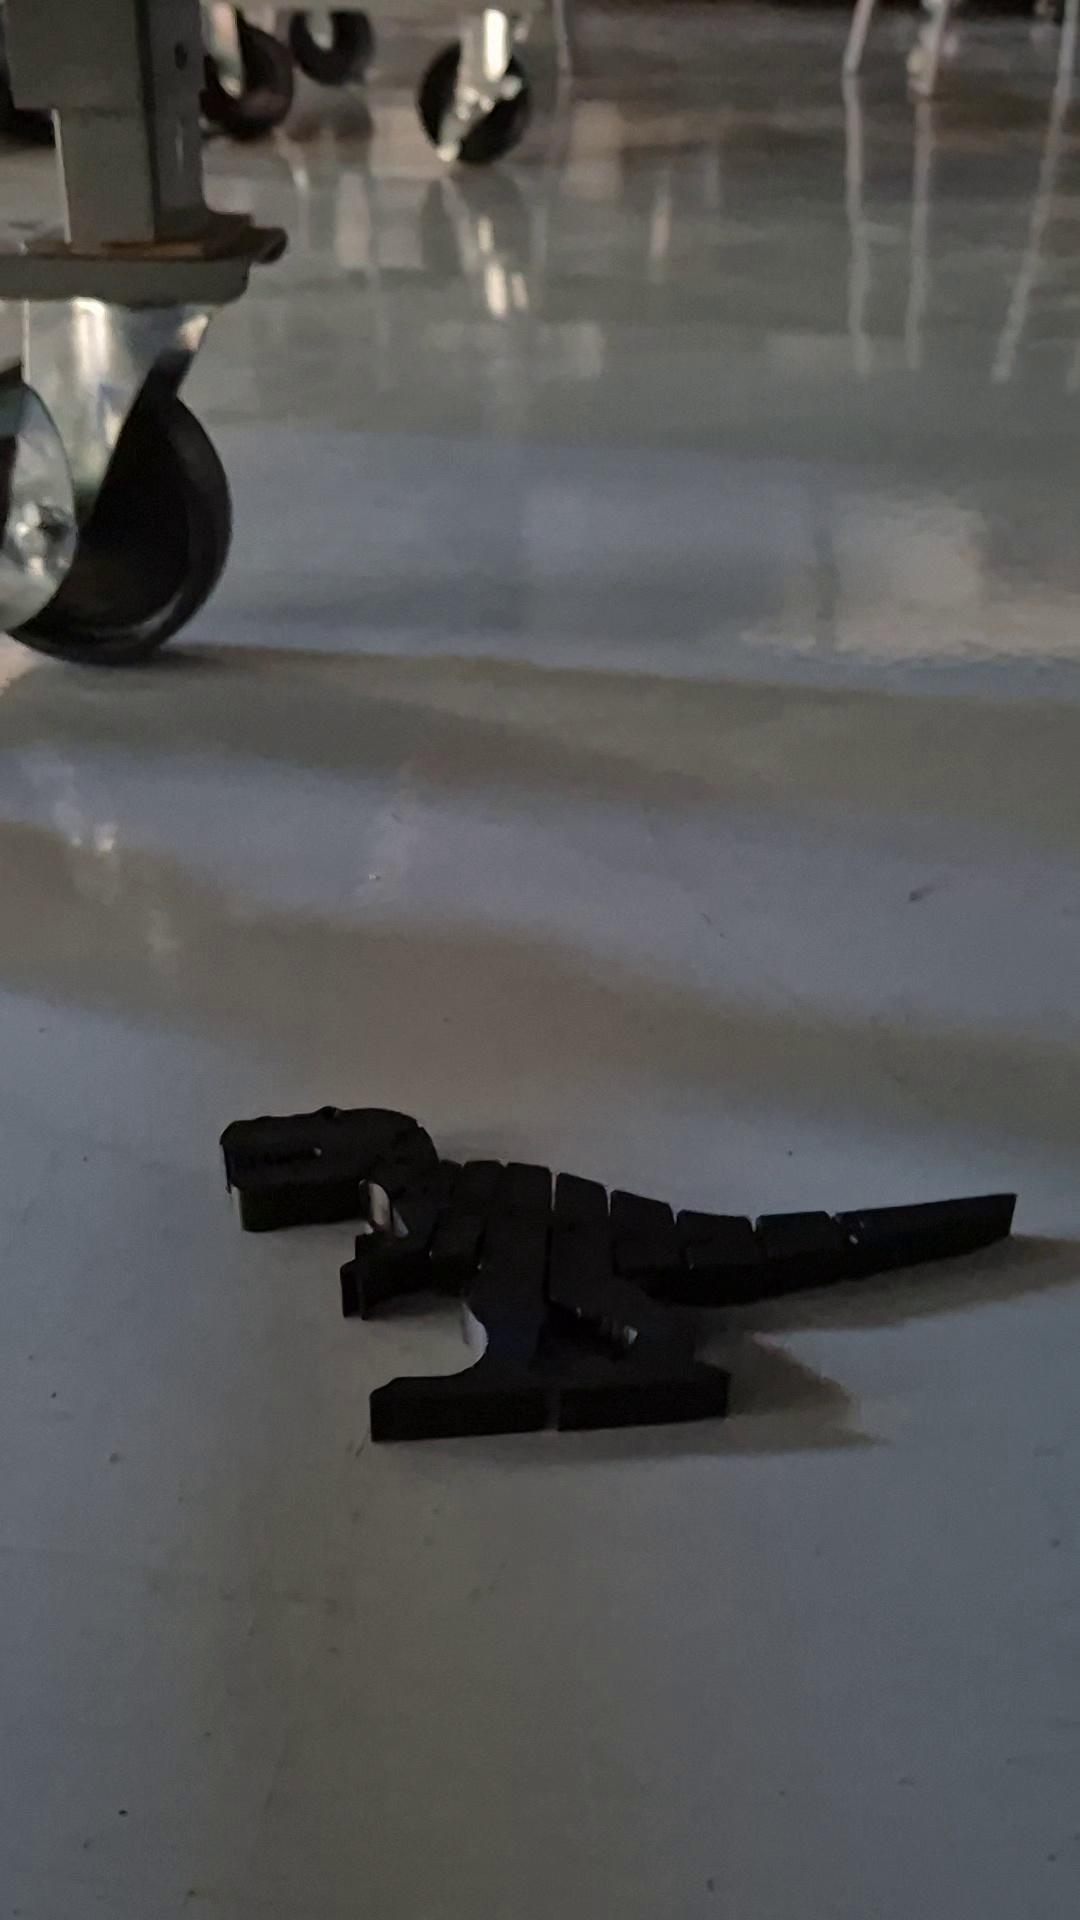dinosaur: (215, 1101, 1019, 1448)
